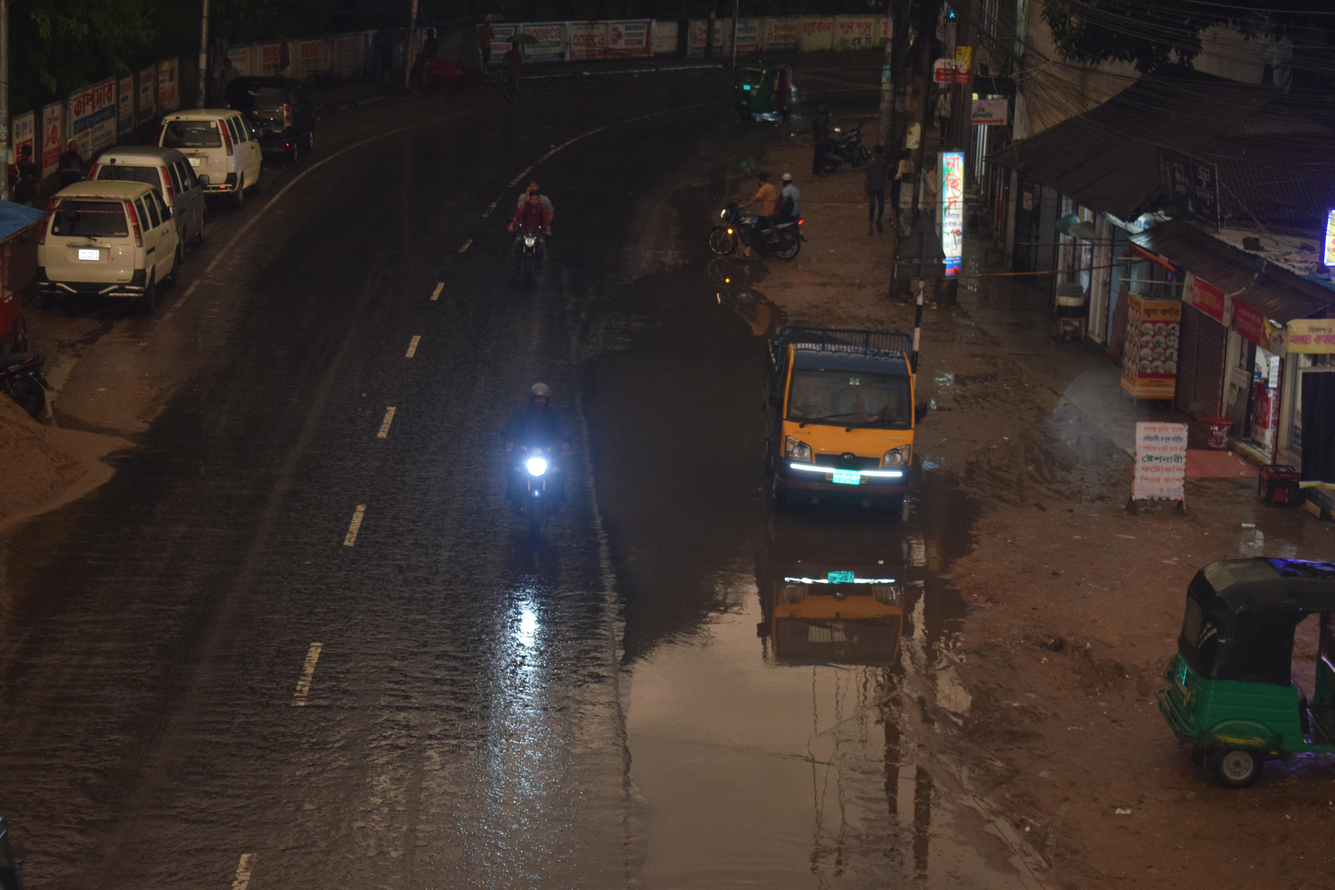Bike: (462, 355, 617, 615), (480, 163, 604, 309), (686, 168, 825, 278)
Car: (25, 163, 204, 327), (138, 95, 293, 217)
Truck: (732, 278, 996, 597)
